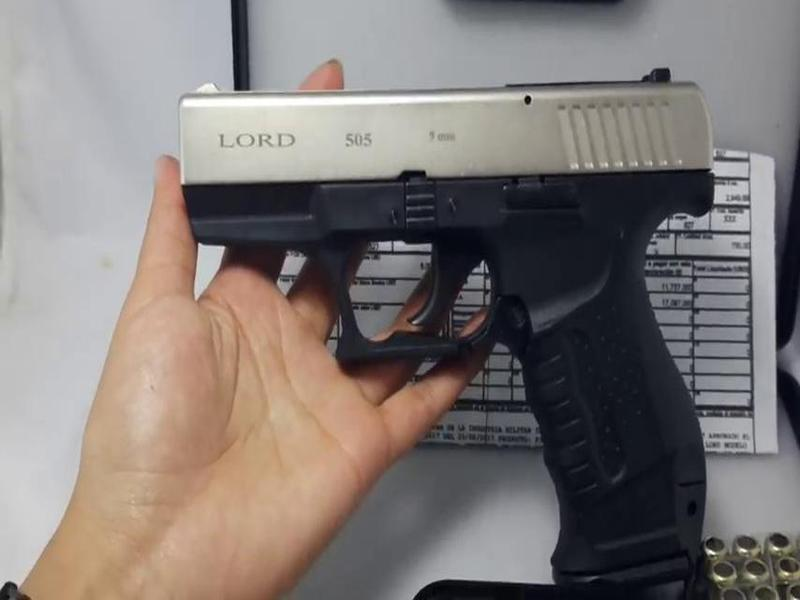Pistola: (143, 61, 755, 570)
